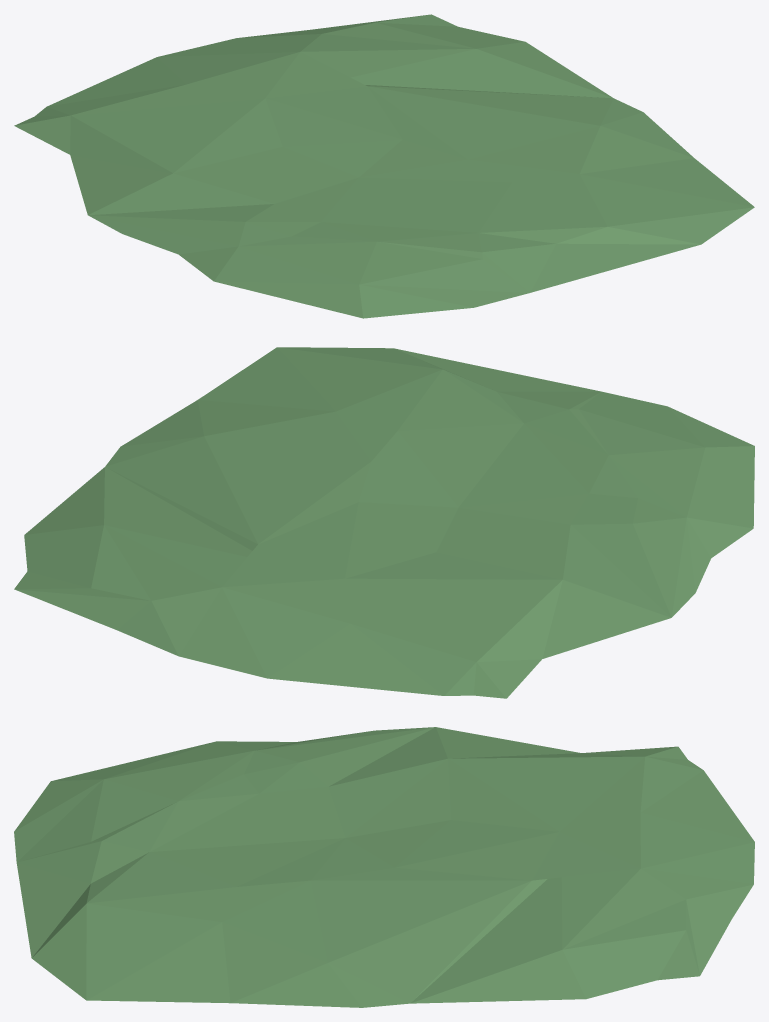
The model's file is mound.glb.
3 views of the same model, one above another, from view 1: azimuth 30°, elevation 25°; view 2: azimuth 150°, elevation 25°; view 3: azimuth 270°, elevation 25° (orthographic). The views are drawn at different scales.
Visible parts, largest first — view 1: GrassPatchLarge_04; view 2: GrassPatchLarge_04; view 3: GrassPatchLarge_04.
Boxes of the visible parts, left/top/right/bottom form: GrassPatchLarge_04: left=14, top=14, right=754, bottom=318; GrassPatchLarge_04: left=14, top=347, right=754, bottom=698; GrassPatchLarge_04: left=14, top=727, right=754, bottom=1007.
Size of the model in its own units: 5.06 by 0.192 by 5.64.
1 material, 1 textured.
